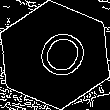O_SW: (22, 23, 88, 87)
